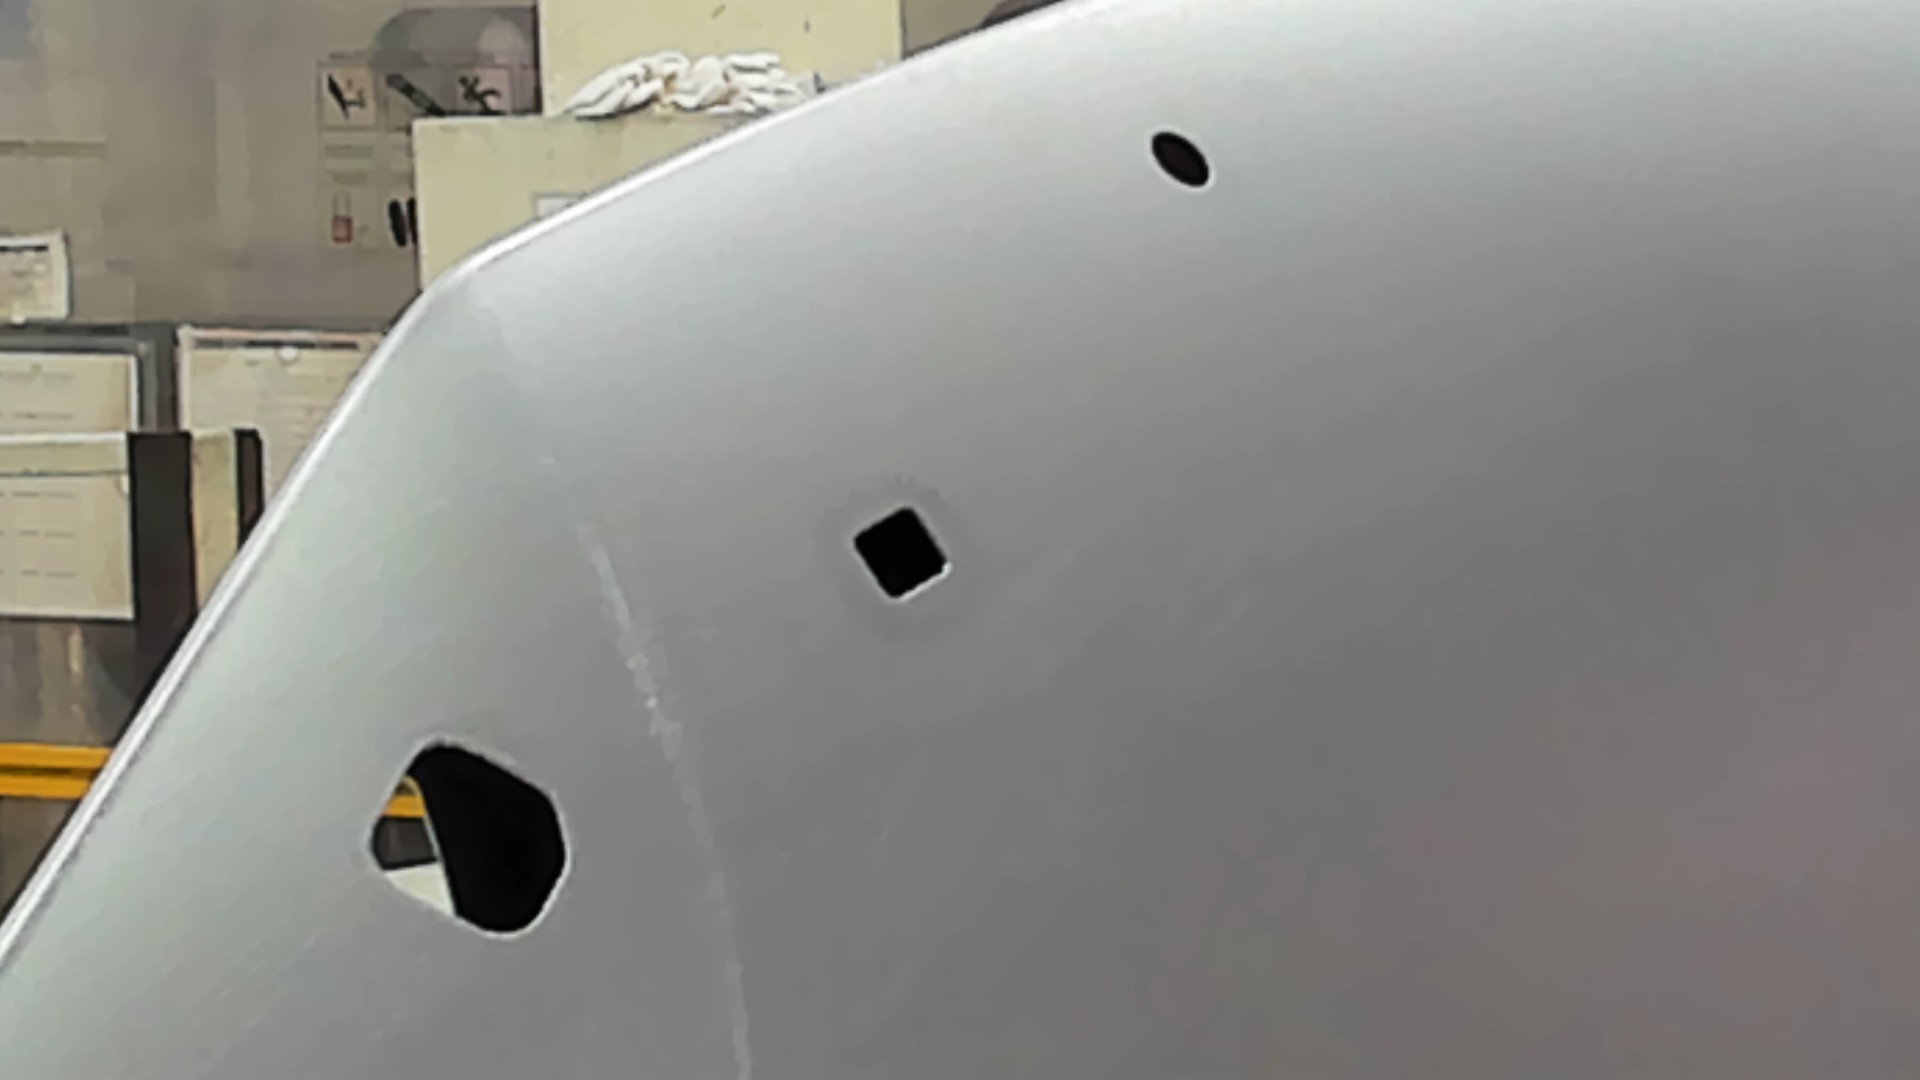capo: (955, 193, 1920, 1080)
chico: (1142, 128, 1218, 193)
grande: (359, 732, 571, 945)
mediano: (843, 498, 956, 611)
